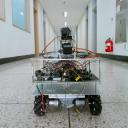cart: (31, 57, 103, 116)
